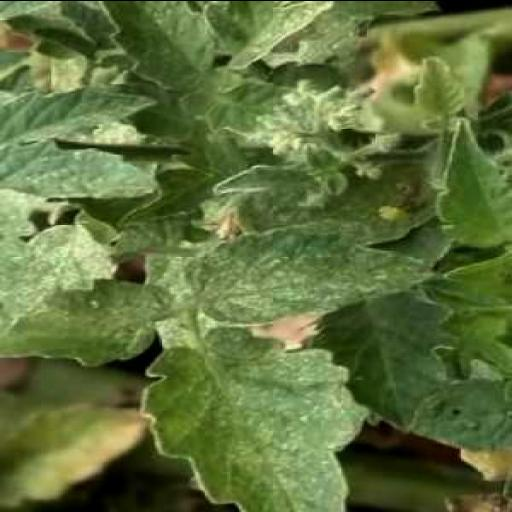disease_tomato: (143, 324, 369, 512), (184, 228, 442, 326)
